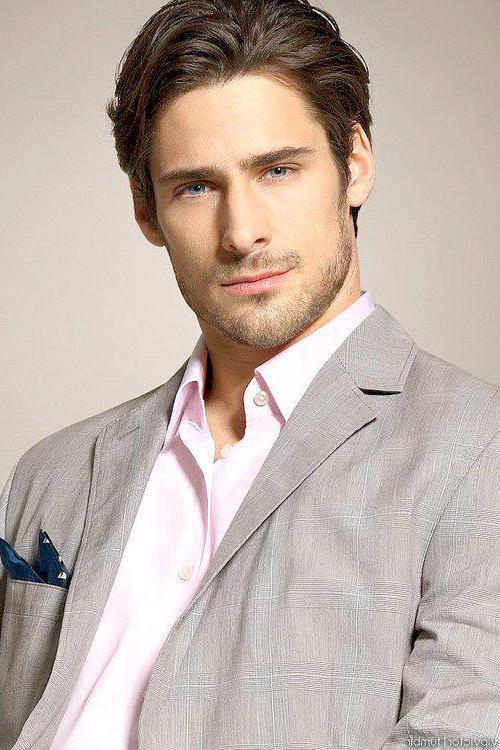Sober: (161, 112, 339, 333)
